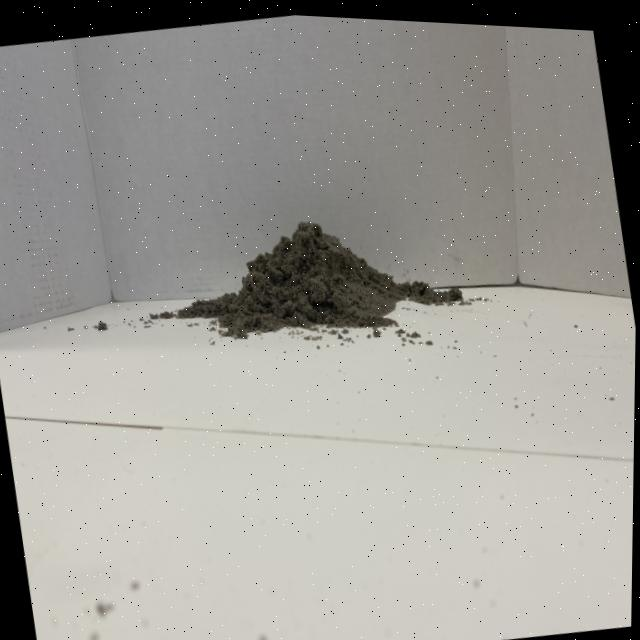sand: (179, 188, 424, 361)
